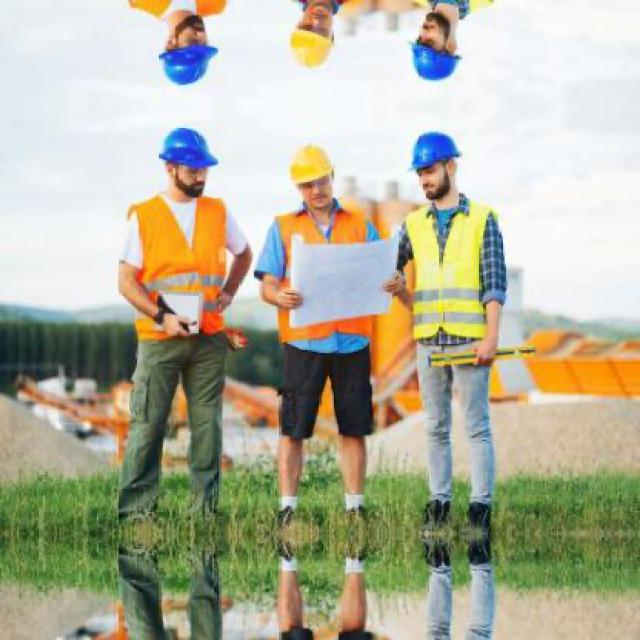helmet: (152, 119, 215, 202), (152, 11, 215, 94), (406, 124, 466, 204), (406, 10, 466, 90), (286, 0, 342, 79), (286, 136, 340, 217)
